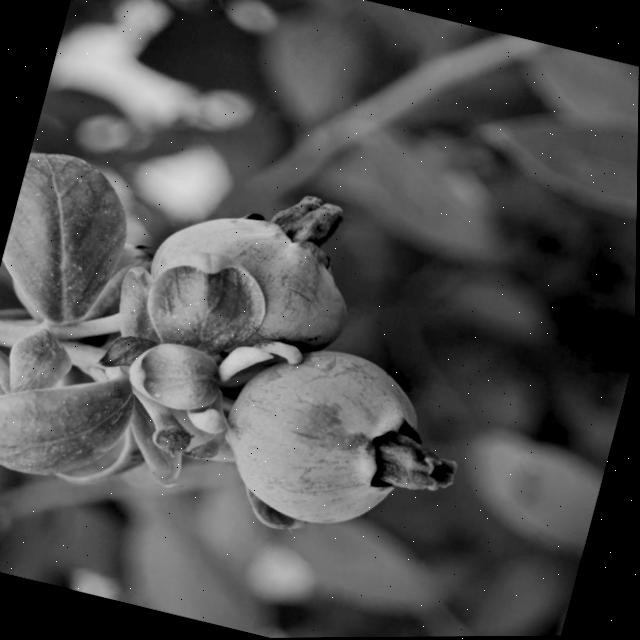RipeBlueBerry: (201, 323, 451, 548), (135, 180, 376, 355)
